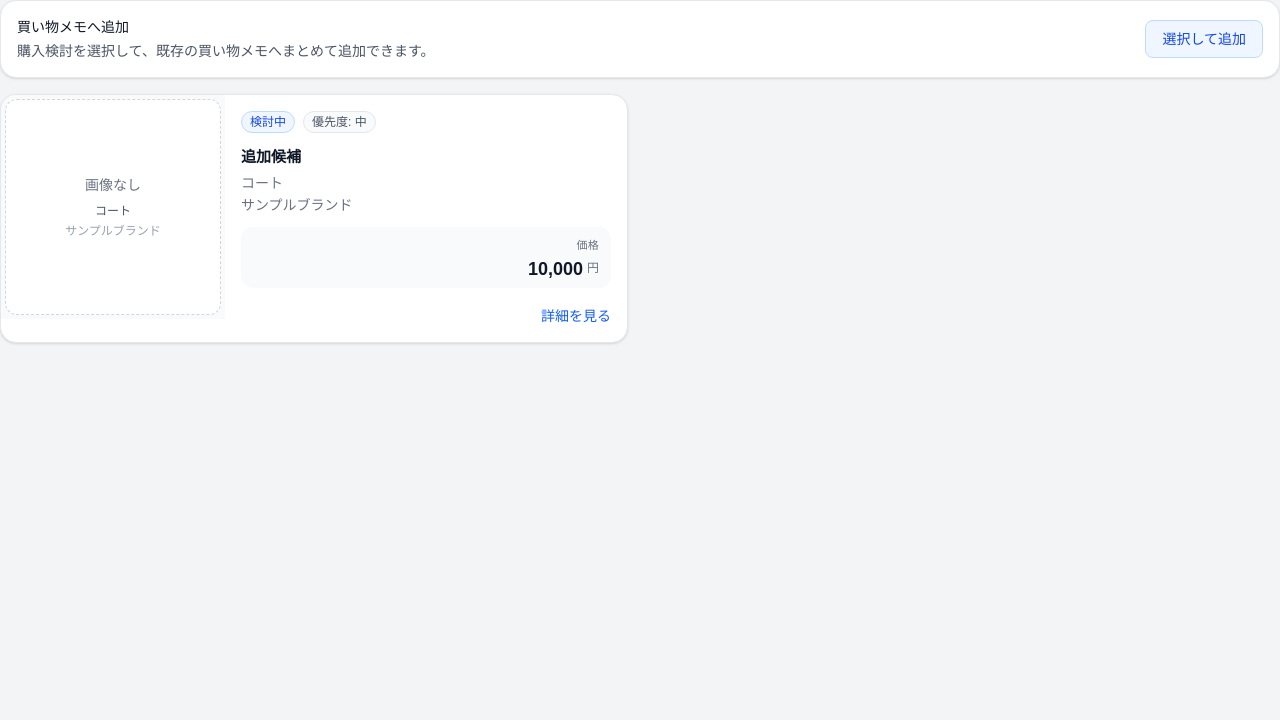
Test: PurchaseCandidateShoppingMemoBulkAdd › 追加予定がある場合は bulk add API を呼ぶ
Click the button "選択して追加".
click(1204, 39)  # box [1145, 20, 1263, 58]
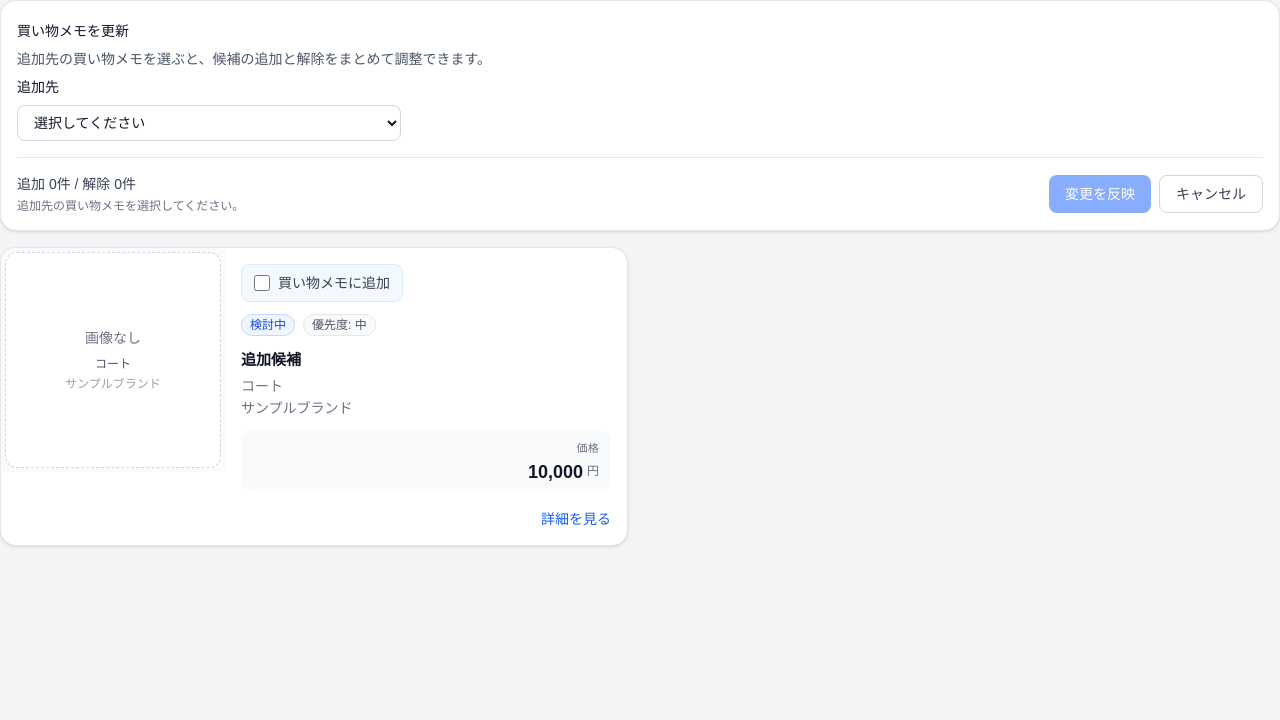
Select "春夏物" in the dropdown labelled "追加先" at point(209, 123), box [17, 105, 401, 141]
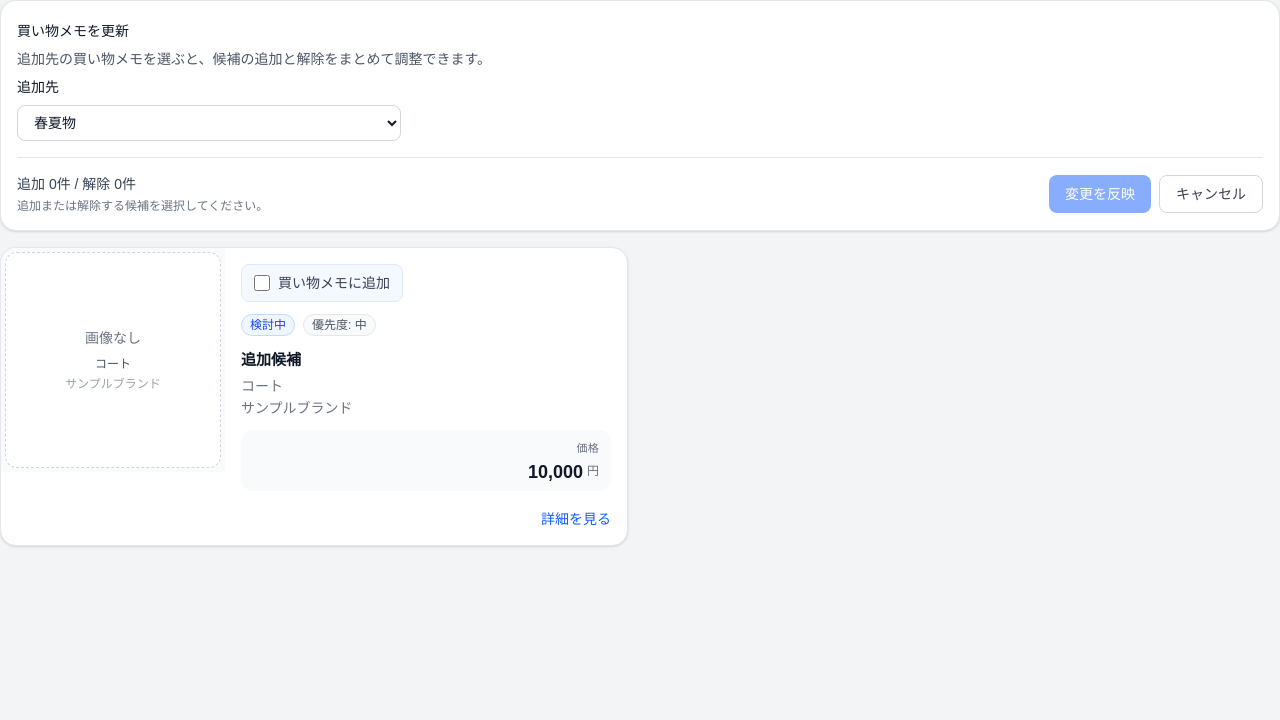
Click the checkbox with test id "purchase-candidate-checkbox-51".
click(262, 283)  # box [254, 275, 270, 291]
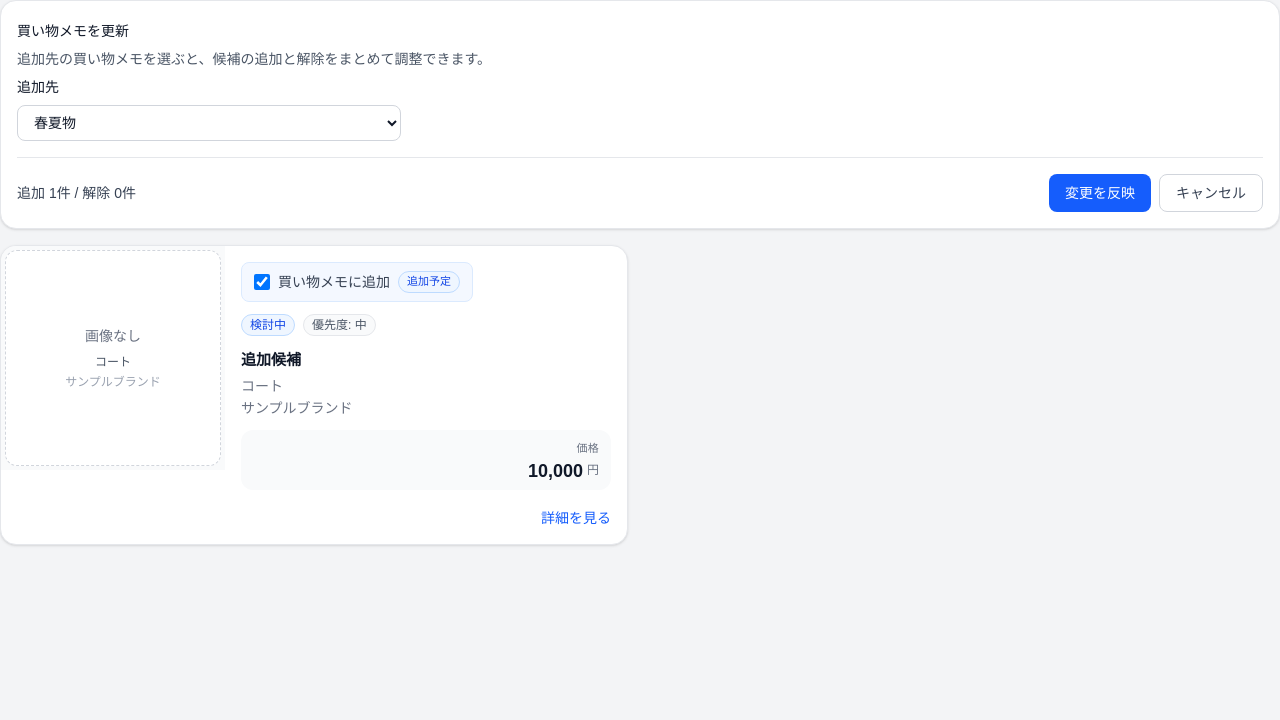
Click the button "変更を反映".
click(1100, 193)  # box [1049, 174, 1151, 212]
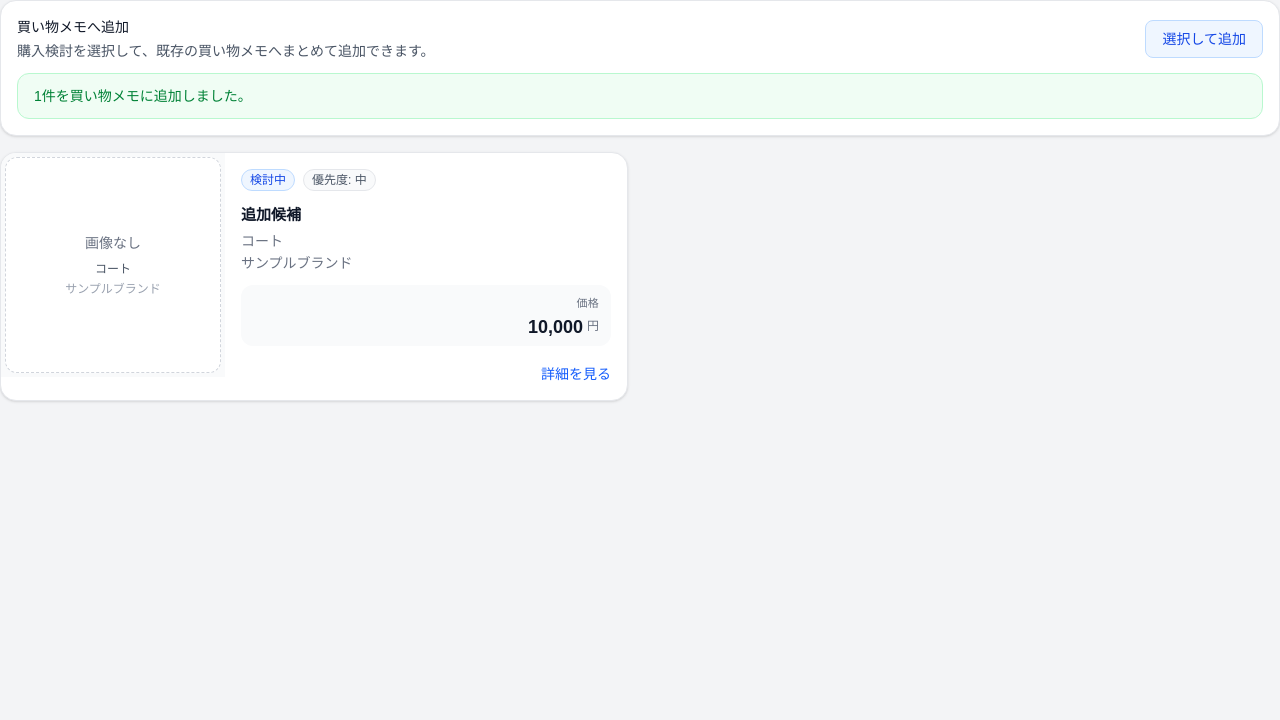
expect the text "1件を買い物メモに追加しました。" is shown: met, box [17, 73, 1263, 119]
expect the text "選択して追加" is shown: met, box [1145, 20, 1263, 58]
